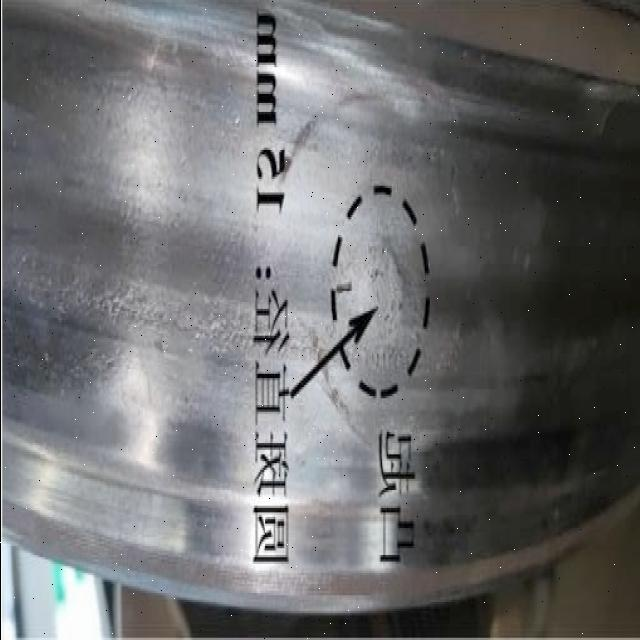geshang: (357, 235, 409, 339)
